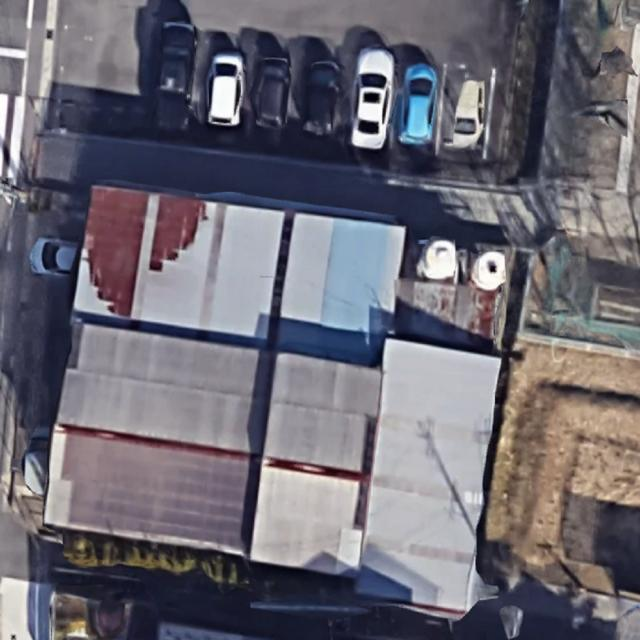Batiment: (45, 324, 262, 554), (362, 339, 500, 611), (75, 186, 285, 336), (281, 213, 405, 331), (265, 354, 381, 472), (250, 459, 362, 574)
